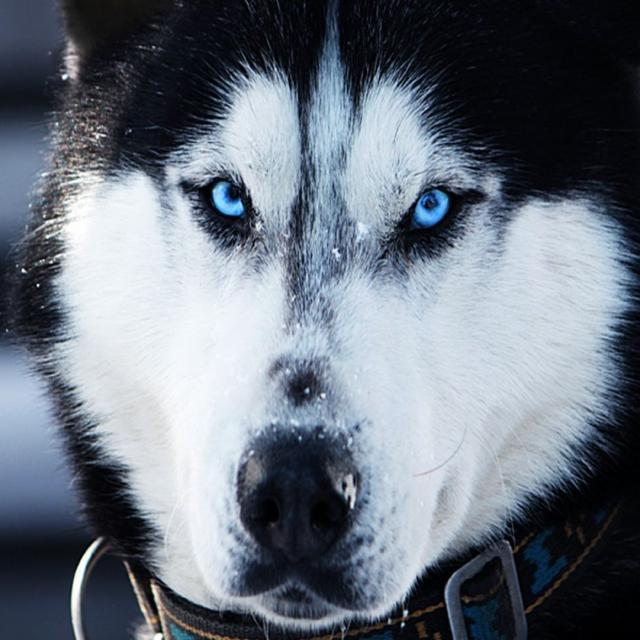eye: (201, 172, 254, 229), (403, 180, 456, 234)
